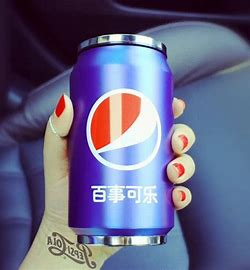Pepsi: (69, 34, 173, 248)
